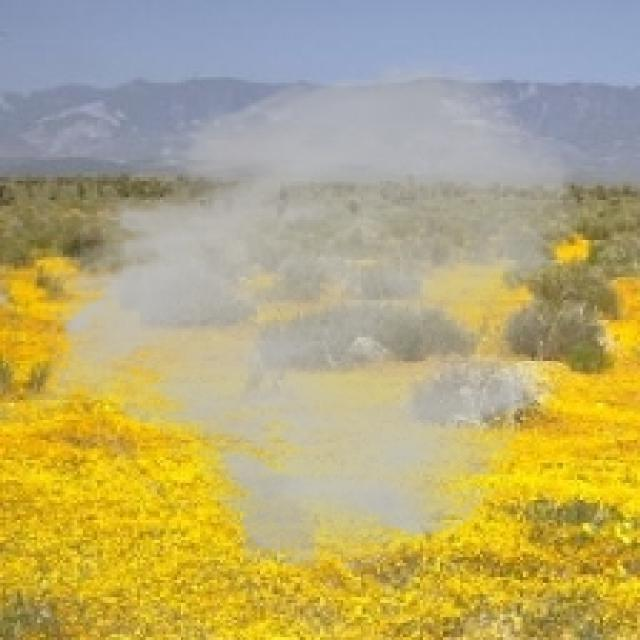smoke: (23, 54, 586, 577)
